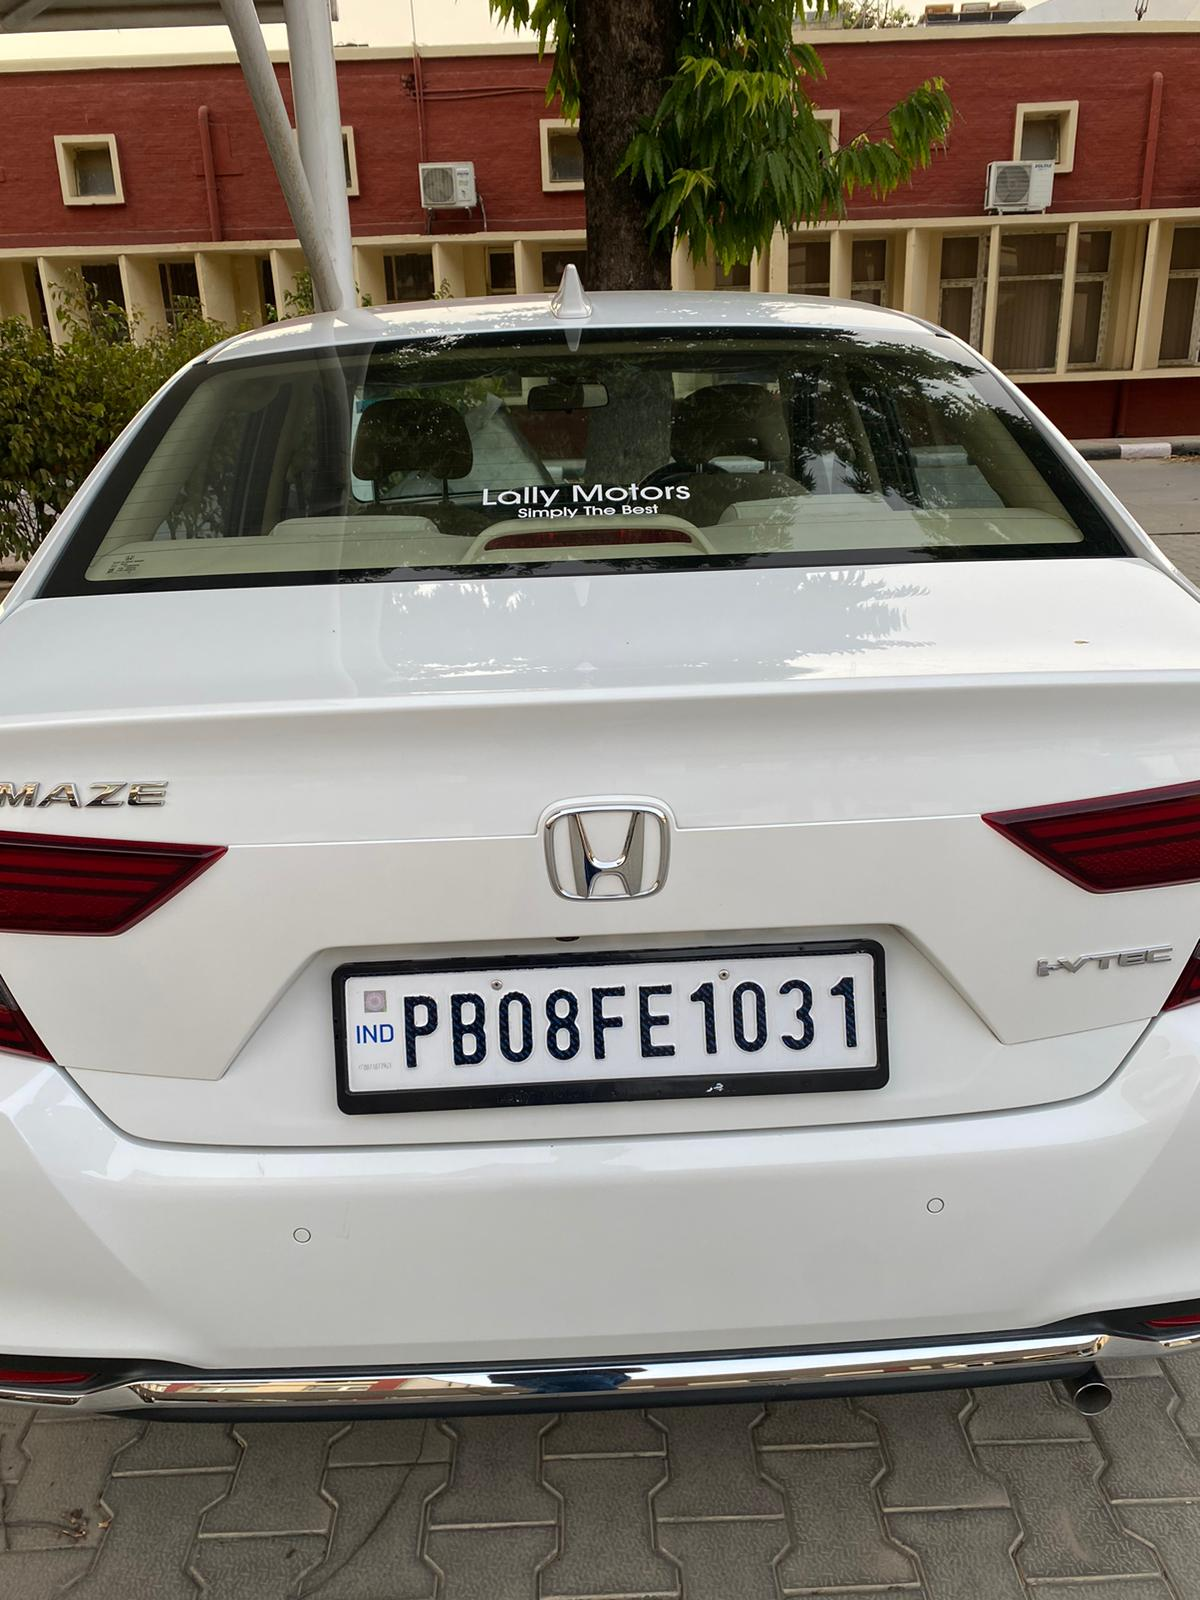license plate: (333, 941, 887, 1112)
